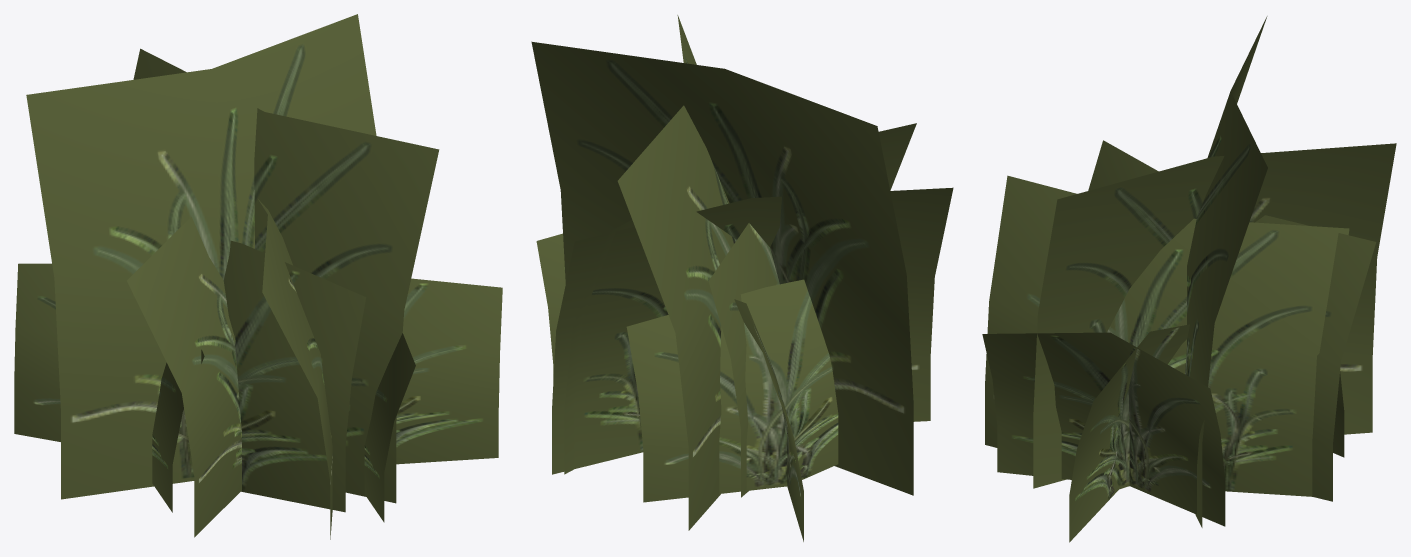
Rendered from SM_Grass_small_clump_A4.fbx.
3 views of the same model, side by side, from view 1: azimuth 30°, elevation 25°; view 2: azimuth 150°, elevation 25°; view 3: azimuth 270°, elevation 25° (orthographic). The views are drawn at different scales.
Parts seen in each view (by area): view 1: SM_Grass_small_clump_A4; view 2: SM_Grass_small_clump_A4; view 3: SM_Grass_small_clump_A4.
Part boxes in pixels (bbox=[...]): SM_Grass_small_clump_A4: bbox=[14, 14, 502, 539]; SM_Grass_small_clump_A4: bbox=[531, 15, 953, 541]; SM_Grass_small_clump_A4: bbox=[982, 16, 1396, 542].
Size of the model in its own units: 43.13 by 40.65 by 42.28.
